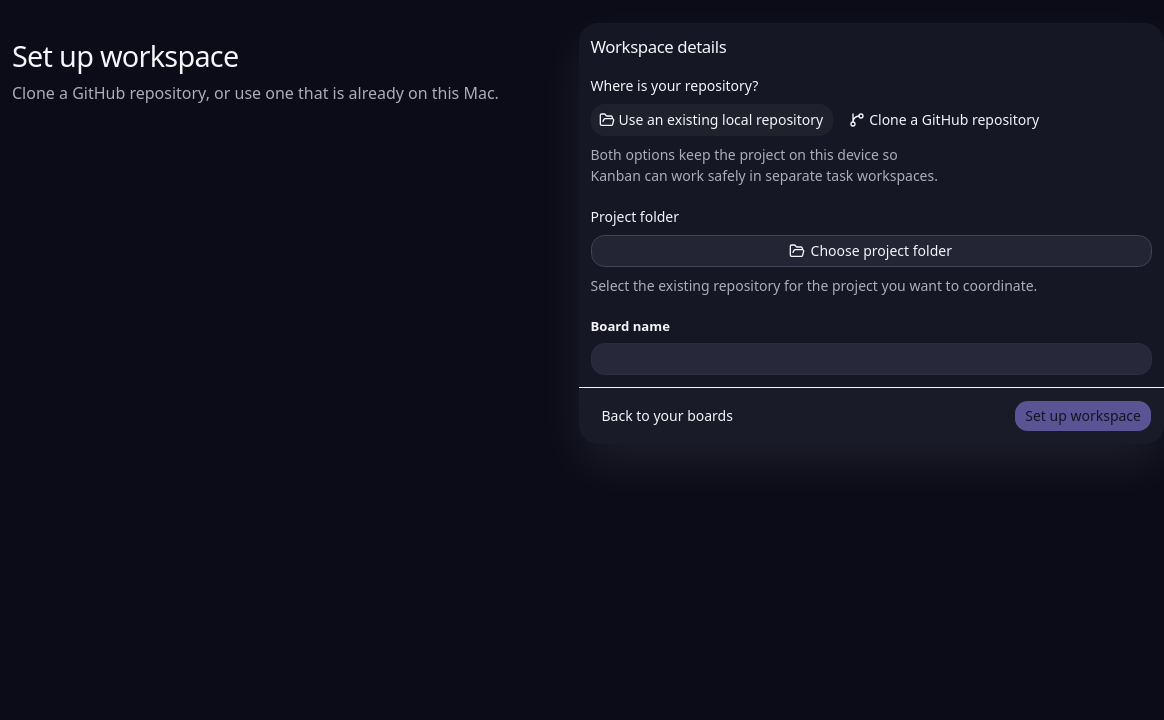
Test: BoardSetup › reports a rejected repository without retaining it
Click the button "Choose project folder". click: (871, 251)
box: [590,235,1152,267]
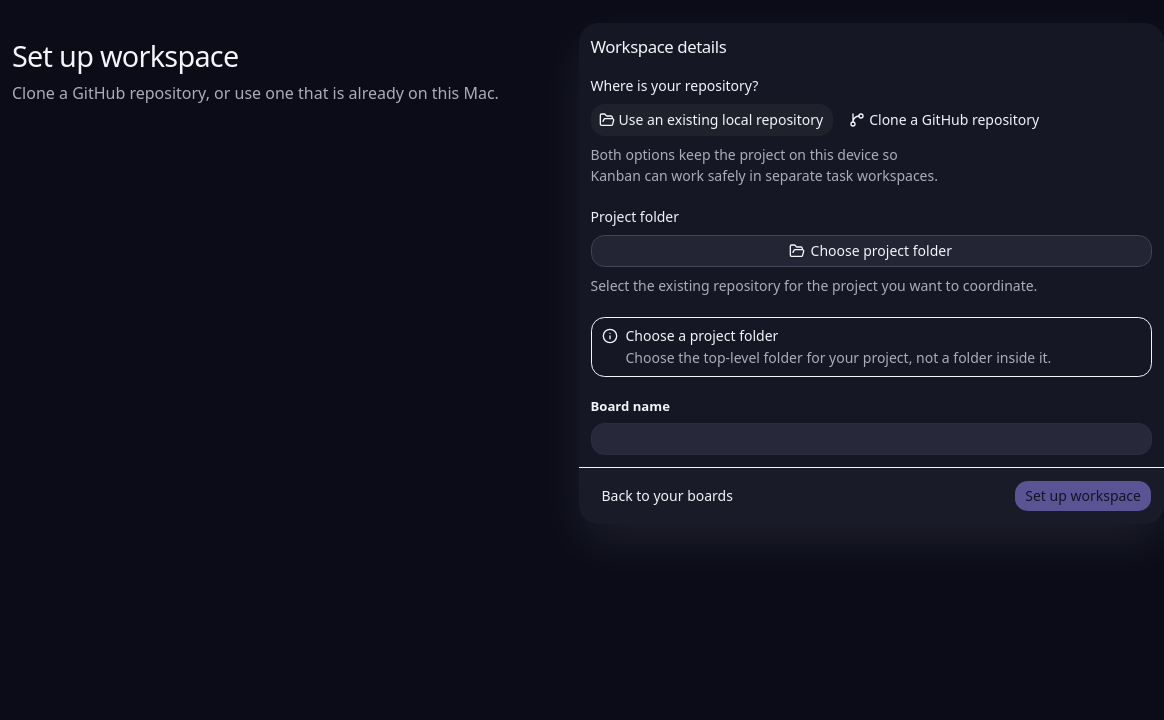
Expected: the button "Set up workspace" is disabled, [1014,480,1152,512]
Result: the text "Choose the top-level folder for your project, not a folder inside it." is shown at [626,348,1051,367]
